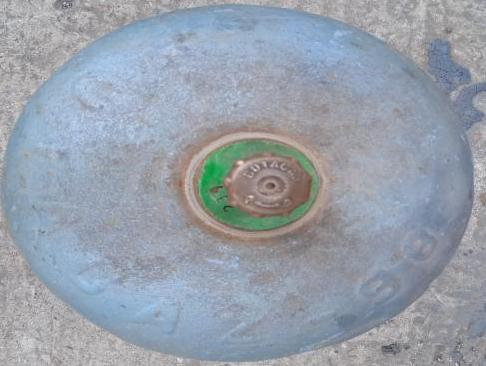cylinder: (1, 0, 486, 366)
